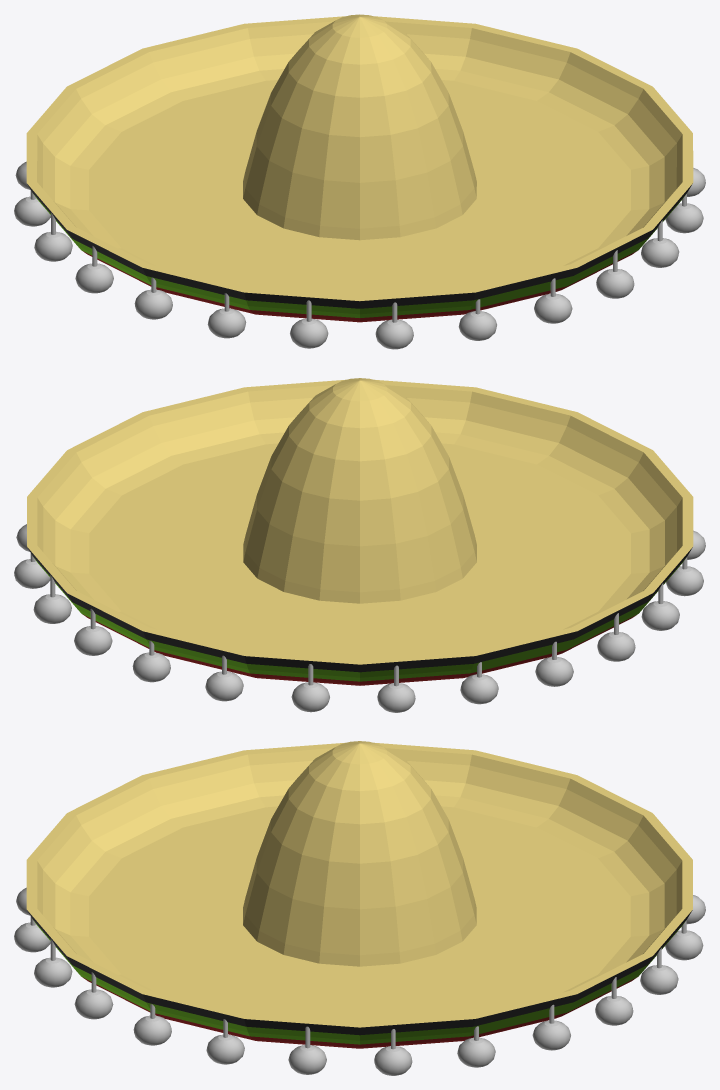
File: 7fGDqHvHap1.glb
3 renders of one model, top to bottom at view 1: azimuth 30°, elevation 25°; view 2: azimuth 150°, elevation 25°; view 3: azimuth 270°, elevation 25°, orthographic.
Visible parts, largest first — view 1: Cylinder002, Sphere027; view 2: Cylinder002, Sphere027; view 3: Cylinder002, Sphere027.
Boxes of the visible parts, x1,y1,x2,y2 form: Cylinder002: (26,14,693,322); Sphere027: (14,161,705,349); Cylinder002: (27,378,693,685); Sphere027: (14,524,705,712); Cylinder002: (26,741,692,1048); Sphere027: (14,887,705,1075).
Bounding box in the file's own units: 3.26 × 1 × 3.26.
